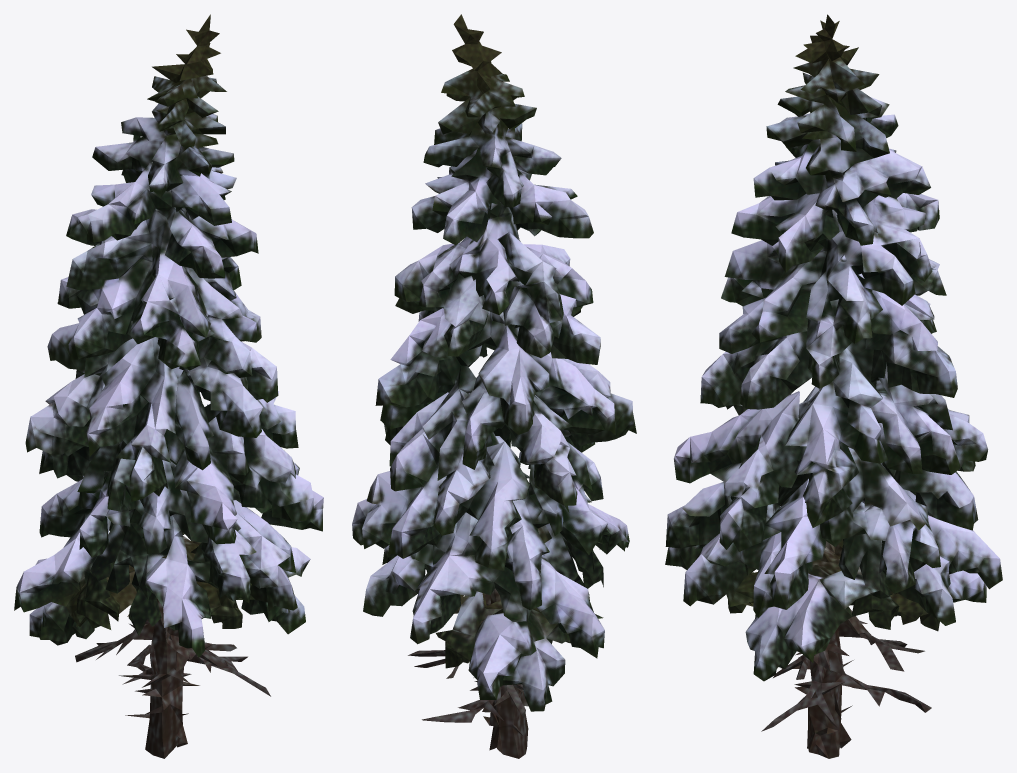
File: fir_snow.glb
The picture shows the model from 3 angles, left to right: view 1: azimuth 30°, elevation 25°; view 2: azimuth 150°, elevation 25°; view 3: azimuth 270°, elevation 25°; orthographic projection. The views are drawn at different scales.
Parts seen in each view (by area): view 1: geometry_0; view 2: geometry_0; view 3: geometry_0.
Part boxes in pixels (box(x1,y1,x2,y2)): geometry_0: box(14, 14, 323, 758); geometry_0: box(352, 14, 636, 758); geometry_0: box(665, 14, 1002, 758).
Bounding box in the file's own units: 0.3708 × 1 × 0.4011.
1 material, 1 textured.
